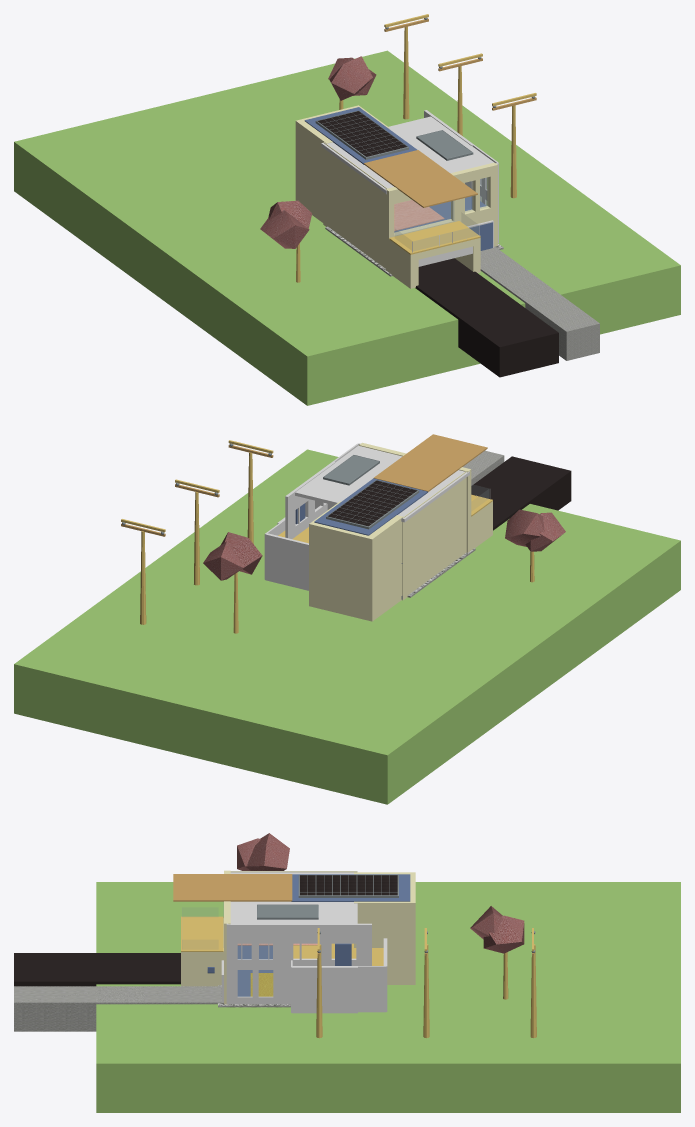
The model's file is modern House.fbx.
The picture shows the model from 3 angles, top to bottom: view 1: azimuth 30°, elevation 25°; view 2: azimuth 150°, elevation 25°; view 3: azimuth 270°, elevation 25°; orthographic projection.
Parts seen in each view (by area): view 1: Cube, Cube_9, floors_2, Cube_8, Path_12, Cube_9_2, Cube_1, Cube_2, Cap_1_83, Path_8_2, Cap_1_81, Cube_7_2 (+11 smaller); view 2: Cube, Cube_2, floors_2, Cube_9, Path_12, Cube_1, Platonic_3, Path_13, Cube_5, Cube_6_5, Platonic_2, Cap_2_62 (+5 smaller); view 3: Cube, Cube_8, Cube_9, Cube_2, Cap_1_64, Path_12, Cap_1_74, Cube_1, Cube_9_2, Cube_7_2, Path_8_2, Cap_1_73 (+18 smaller).
Part boxes in pixels (x1=…): Cube: x1=14, y1=50, x2=680, y2=405; Cube_9: x1=434, y1=293, x2=558, y2=377; floors_2: x1=323, y1=142, x2=387, y2=268; Cube_8: x1=501, y1=275, x2=599, y2=360; Path_12: x1=364, y1=150, x2=477, y2=207; Cube_9_2: x1=415, y1=258, x2=517, y2=315; Cube_1: x1=321, y1=116, x2=493, y2=194; Cube_2: x1=295, y1=105, x2=389, y2=222; Cap_1_83: x1=389, y1=165, x2=497, y2=246; Path_8_2: x1=389, y1=221, x2=480, y2=254; Cap_1_81: x1=395, y1=201, x2=453, y2=233; Cube_7_2: x1=480, y1=246, x2=558, y2=302; Cube: x1=14, y1=449, x2=680, y2=804; Cube_2: x1=309, y1=501, x2=402, y2=621; floors_2: x1=402, y1=471, x2=466, y2=600; Cube_9: x1=471, y1=456, x2=571, y2=520; Path_12: x1=373, y1=434, x2=487, y2=491; Cube_1: x1=295, y1=445, x2=469, y2=522; Platonic_3: x1=505, y1=509, x2=544, y2=546; Path_13: x1=314, y1=478, x2=427, y2=535; Cube_5: x1=326, y1=480, x2=419, y2=529; Cube_6_5: x1=323, y1=455, x2=379, y2=485; Platonic_2: x1=203, y1=541, x2=243, y2=580; Cap_2_62: x1=288, y1=462, x2=335, y2=538; Cube: x1=96, y1=882, x2=680, y2=1112; Cube_8: x1=14, y1=986, x2=144, y2=1031; Cube_9: x1=14, y1=953, x2=143, y2=986; Cube_2: x1=354, y1=872, x2=415, y2=984; Cap_1_64: x1=277, y1=925, x2=371, y2=1004; Path_12: x1=173, y1=874, x2=292, y2=900; Cap_1_74: x1=228, y1=925, x2=281, y2=1004; Cube_1: x1=230, y1=871, x2=357, y2=924; Cube_9_2: x1=96, y1=953, x2=180, y2=984; Cube_7_2: x1=96, y1=986, x2=223, y2=1004; Path_8_2: x1=181, y1=916, x2=223, y2=951; Cap_1_73: x1=181, y1=952, x2=223, y2=986.
Bounding box in the file's own units: 660 × 250 × 1025.
Materials: 20 (6 with a texture image).
